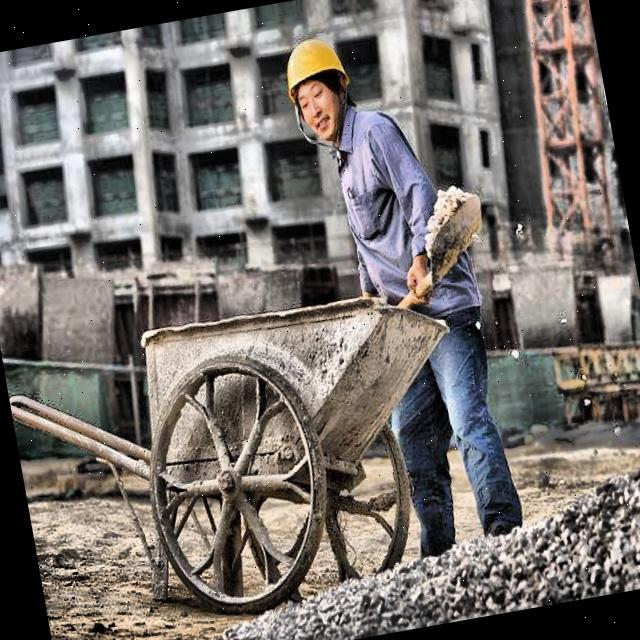helmet: (268, 22, 366, 148)
